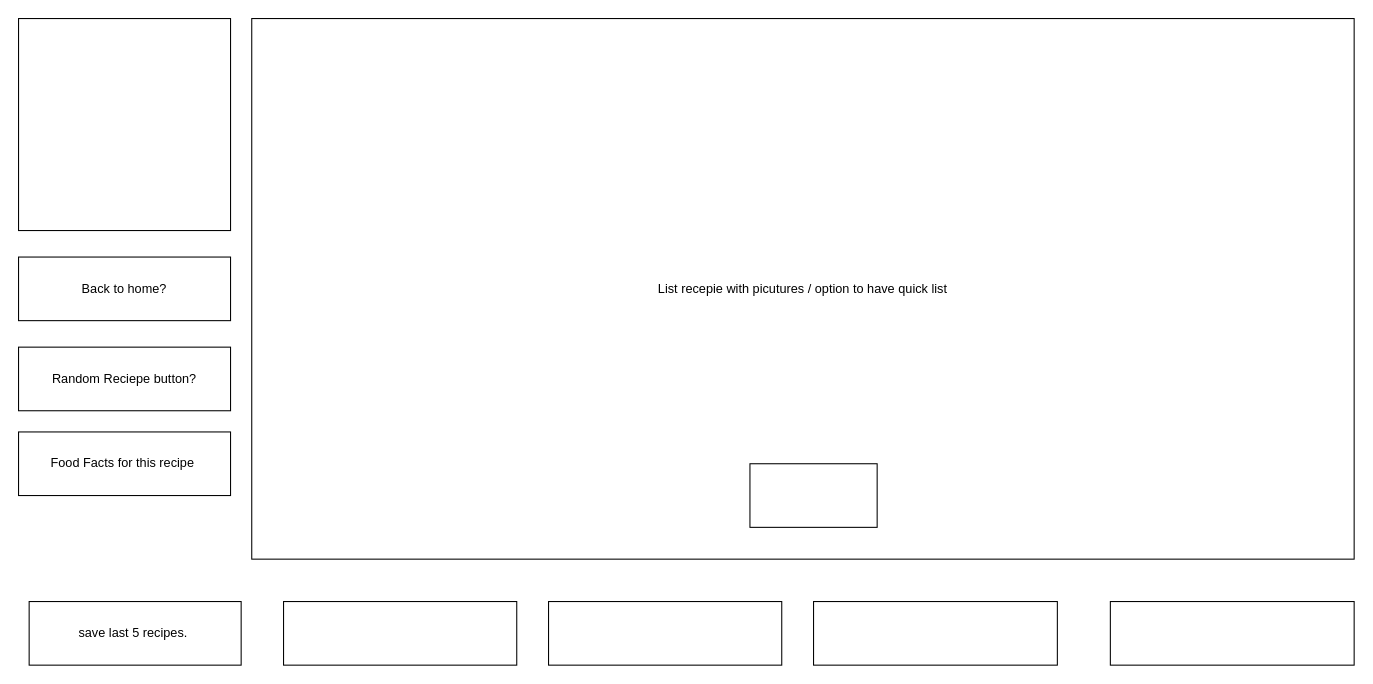
Image size: 1373x684. Some labels were removed from this diagram. Each missing label, with the centre of its shape:
Picture of meal: point (124, 124)
Toggle: point (813, 495)
